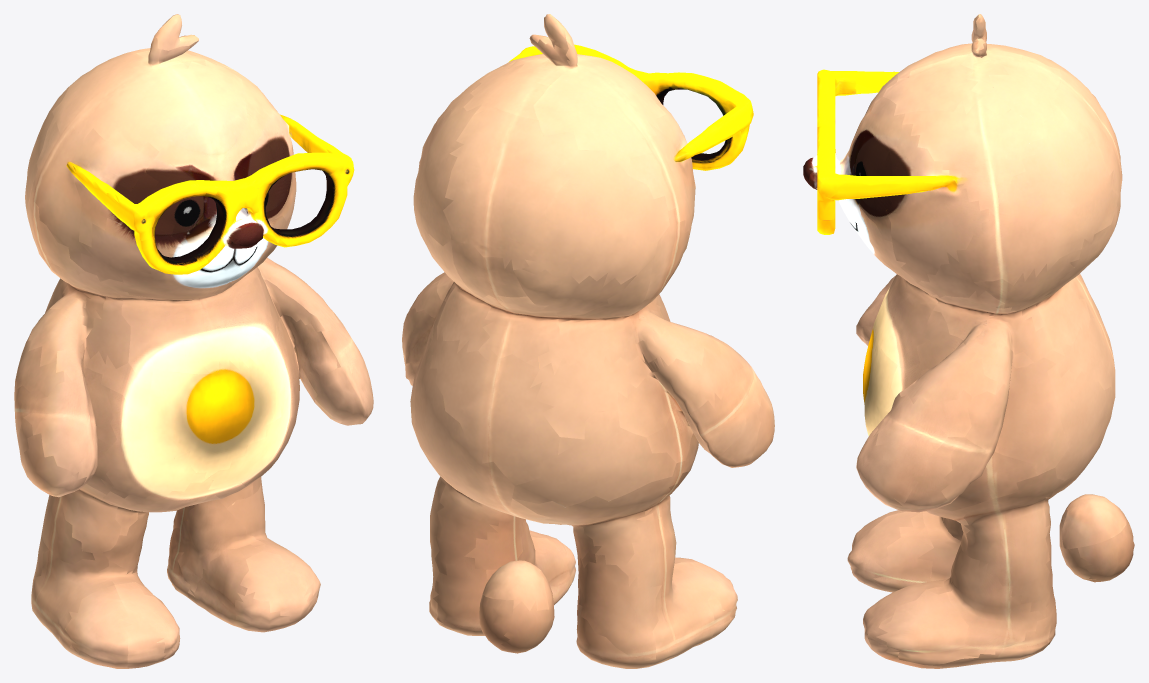
File: glasses_yellow.glb
3 renders of one model, left to right at view 1: azimuth 30°, elevation 25°; view 2: azimuth 150°, elevation 25°; view 3: azimuth 270°, elevation 25°, orthographic. The views are drawn at different scales.
Size of the model in its own units: 1.11 by 1.91 by 0.9315.
Materials: 1 (1 with a texture image).
